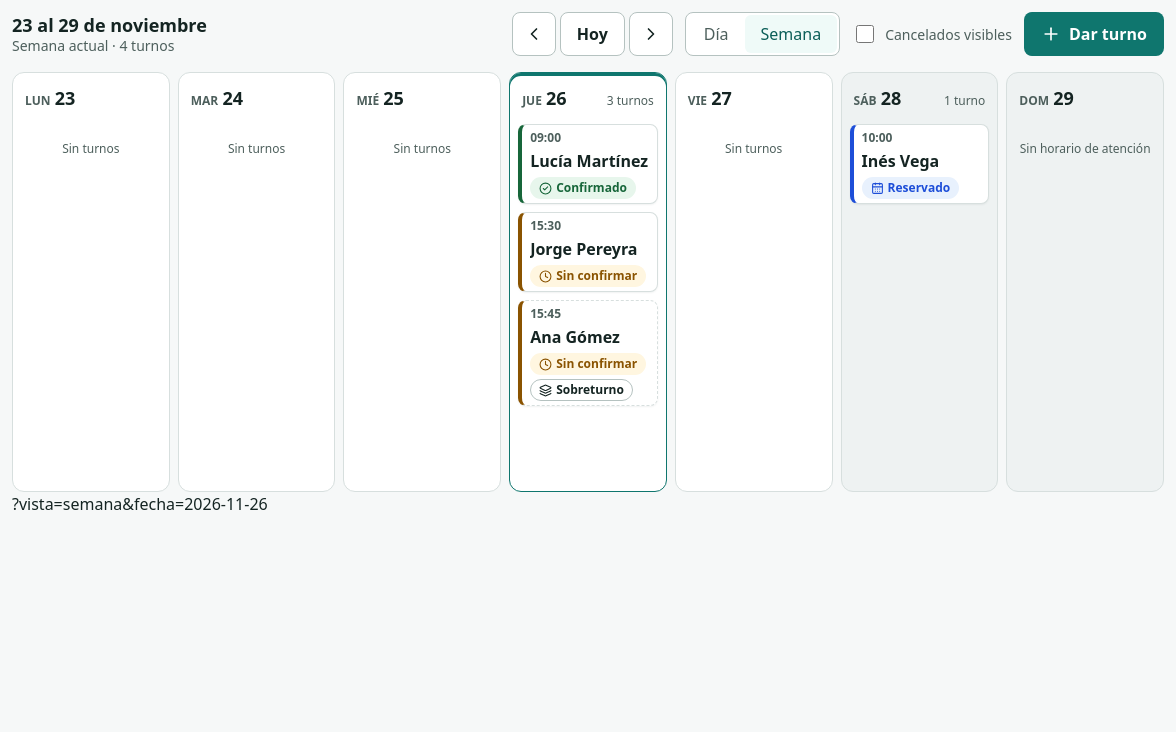
it: vista semana › muestra los siete dias con hoy marcado y lleva al dia elegido
The width and height of the screenshot is (1176, 732).
Expected: the element "Día Semana" is shown, [685,12,840,56]
Expected: the heading "23 al 29 de noviembre" is shown, [12,14,207,36]
What coordinates should you click on to do the following:
click the button with aria-label "Ver el Sáb 28"
I would click on:
 (919, 98)
Its box is [850,81,989,116].
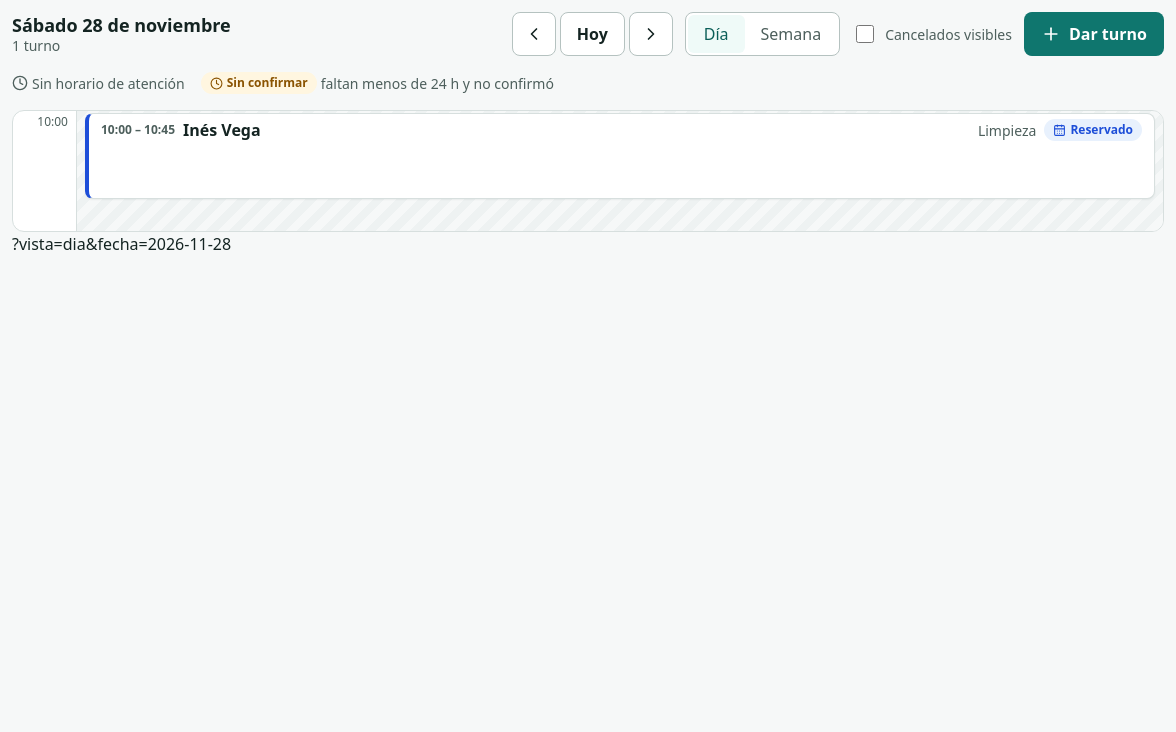
Expected: the text with test id "ubicacion" shows "vista=dia", [12,233,231,255]
Expected: the text with test id "ubicacion" shows "fecha=2026-11-28", [12,233,231,255]
